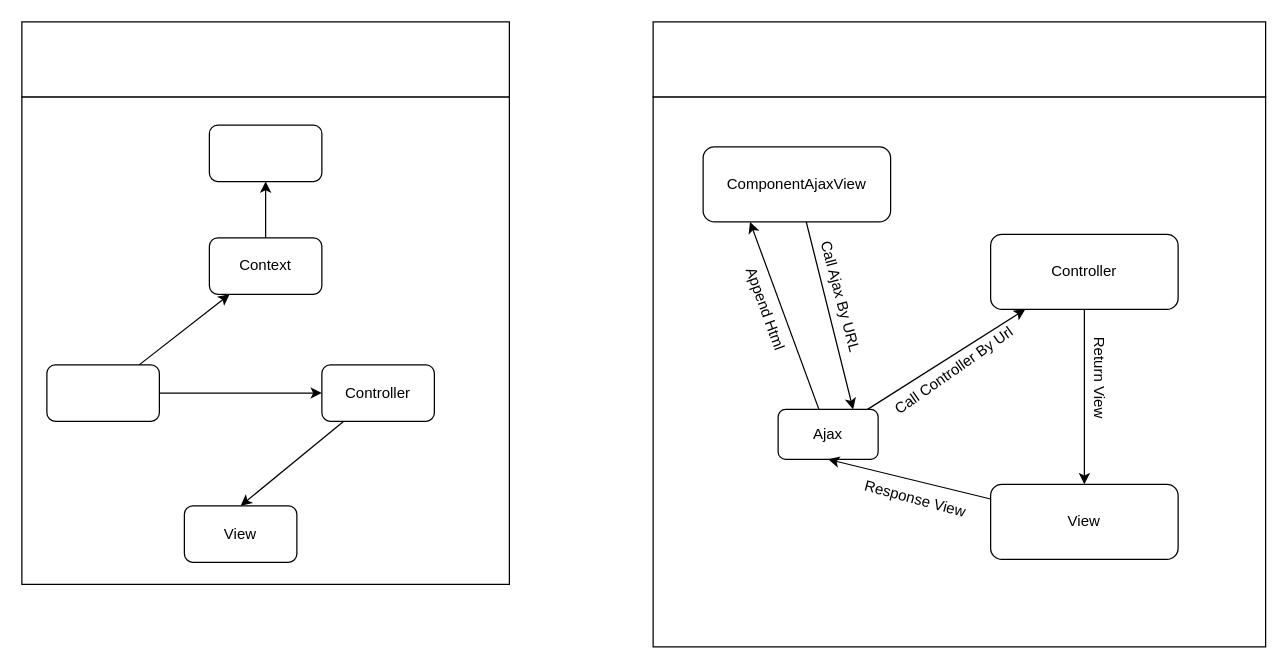
The diagram is 1288 pixels wide and 669 high, and some of its shapes have lost their labels. Here are the shapes that lost their labels. From the top down, the box of each, then its label:
(21, 21, 509, 97): Flow Dotnet Core MVC
(652, 21, 1266, 97): Component Ajax View
(208, 124, 322, 182): Database
(46, 364, 159, 421): Model
